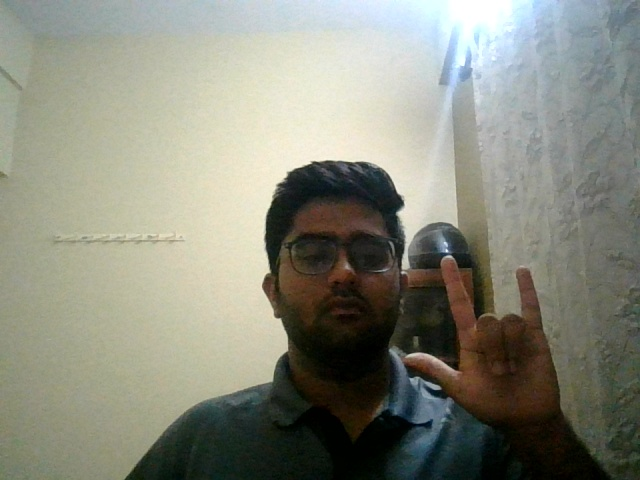I Love You: (394, 239, 594, 445)
